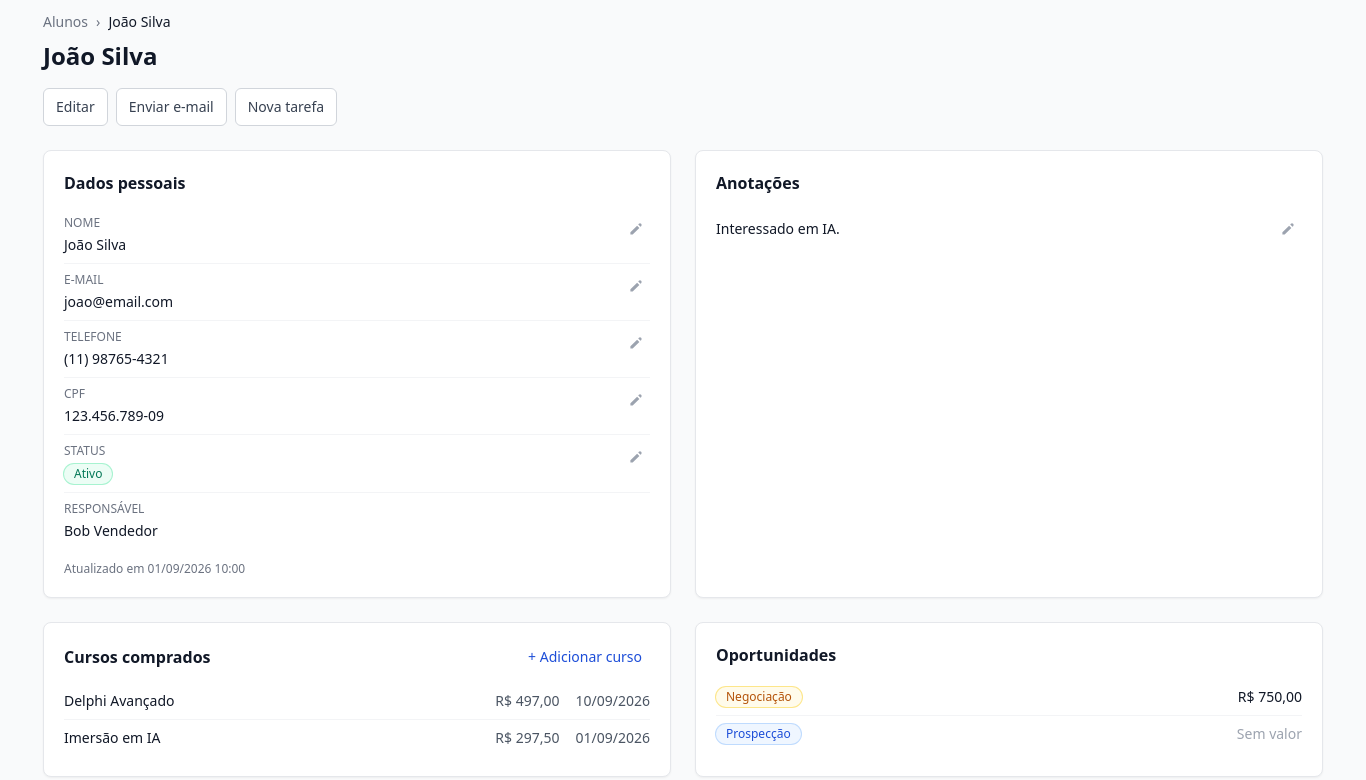
página de detalhe do aluno › edição inline › 409 EMAIL_IN_USE reverte o e-mail e mostra a mensagem junto do campo
Check: the heading "João Silva" is shown, box [43,39,157,72]
Click the button named "Editar e-mail" at [636, 286], box [622,272,650,300]
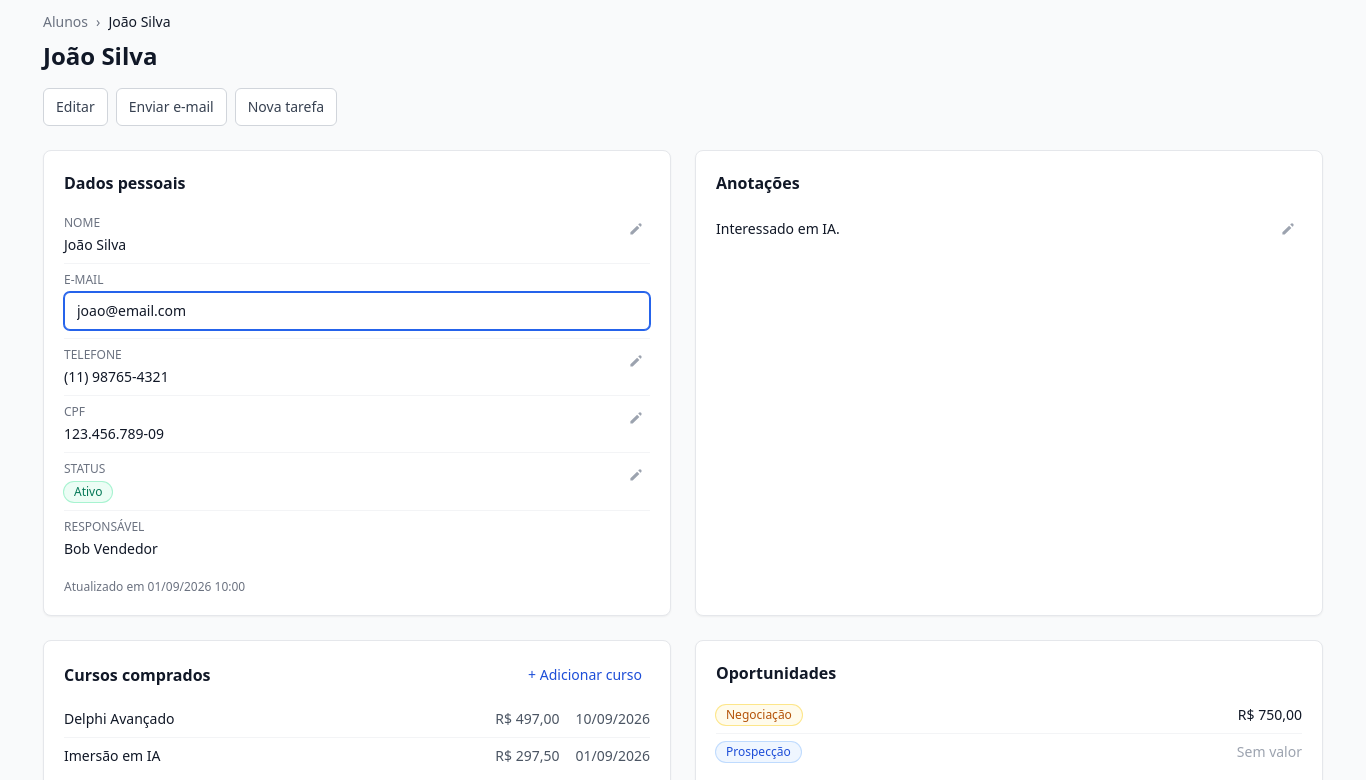
Replace the text in the field labelled "E-mail" with "ana@email.com" at [357, 311], box [64,292,650,330]
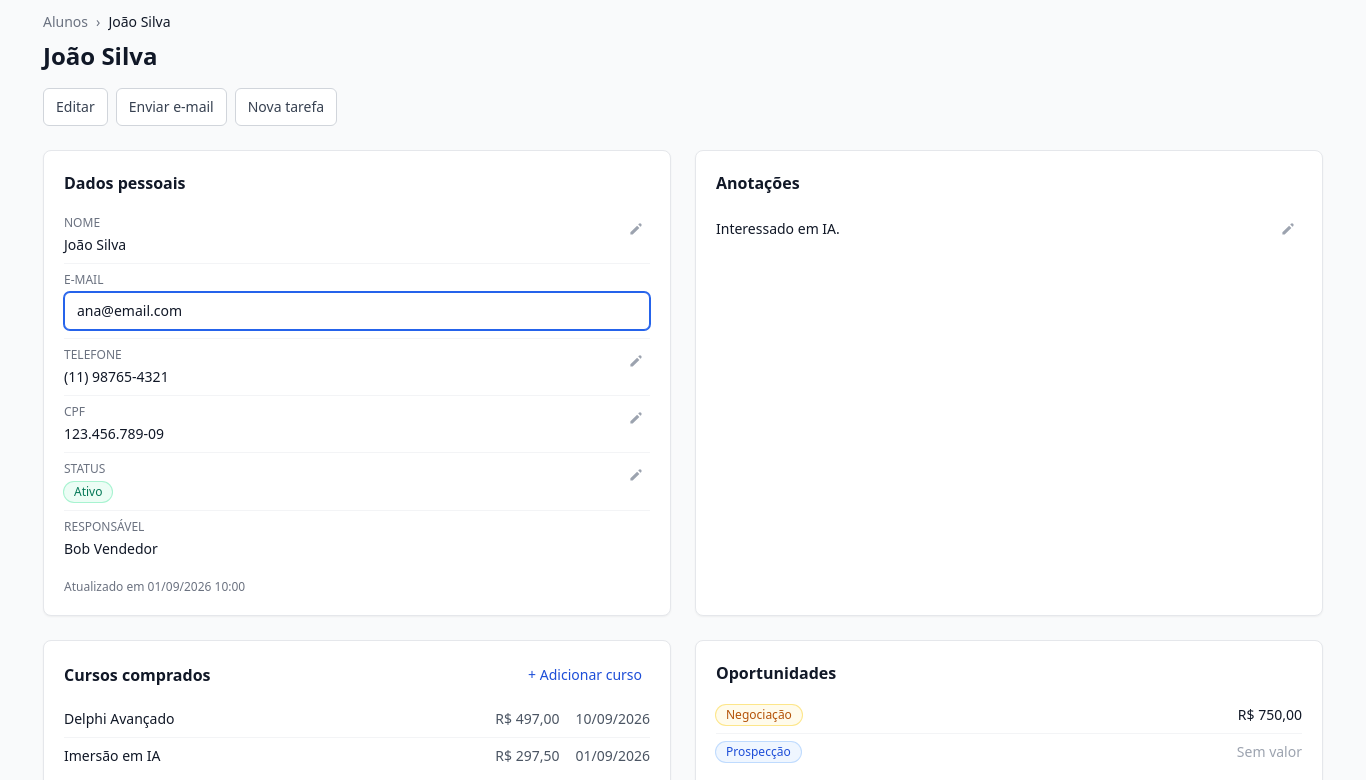
Leave the field labelled "E-mail", box [64,292,650,330]
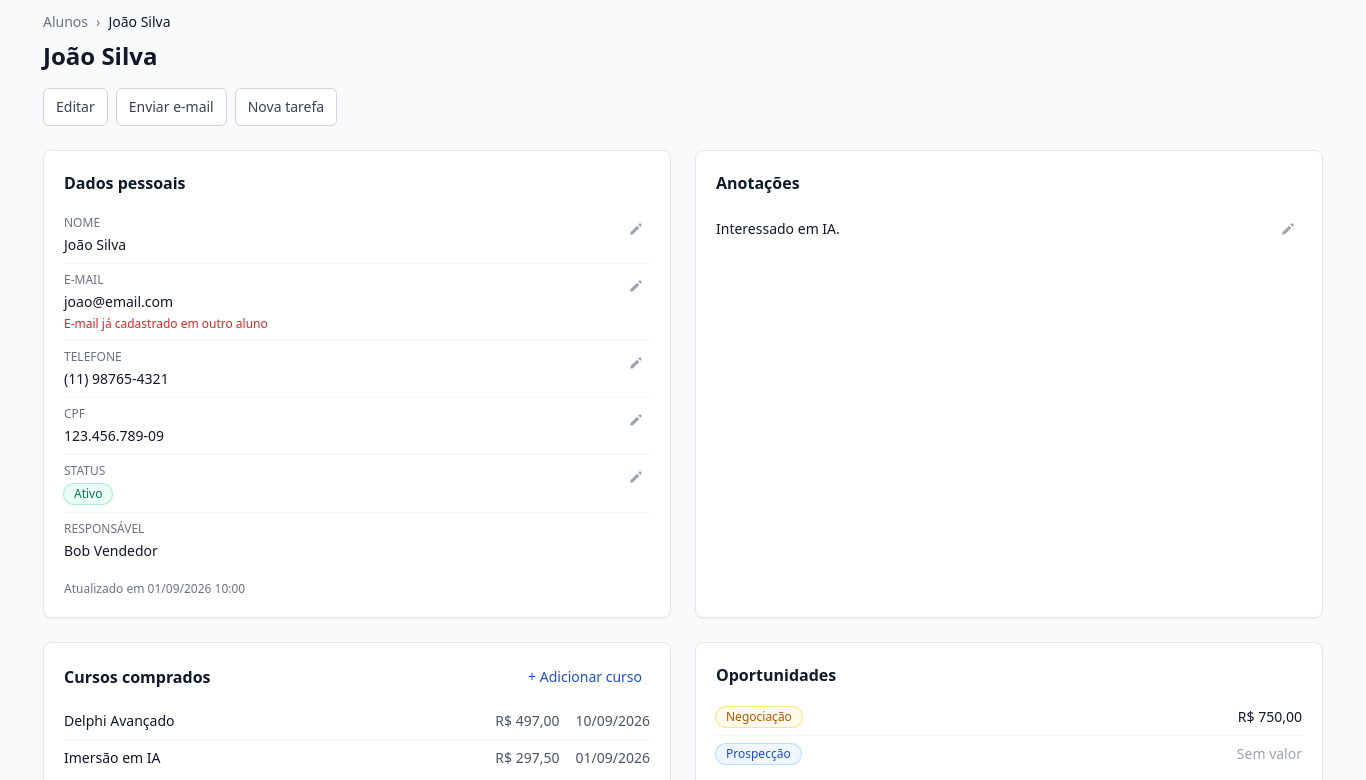
Check: the text "ana@email.com" is not shown
Check: the text "joao@email.com" is shown, box [64,292,173,312]
Check: the message reads "E-mail já cadastrado em outro aluno", box [64,315,268,332]
